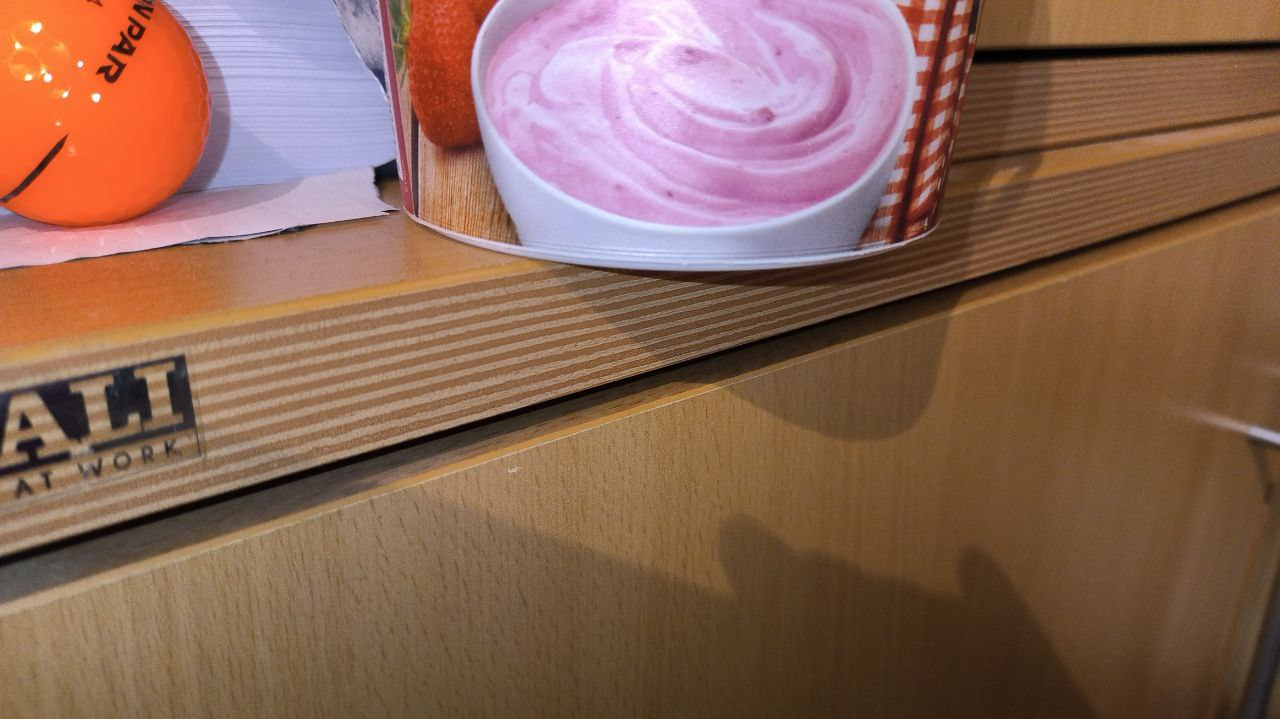orange_ball: (0, 0, 213, 228)
